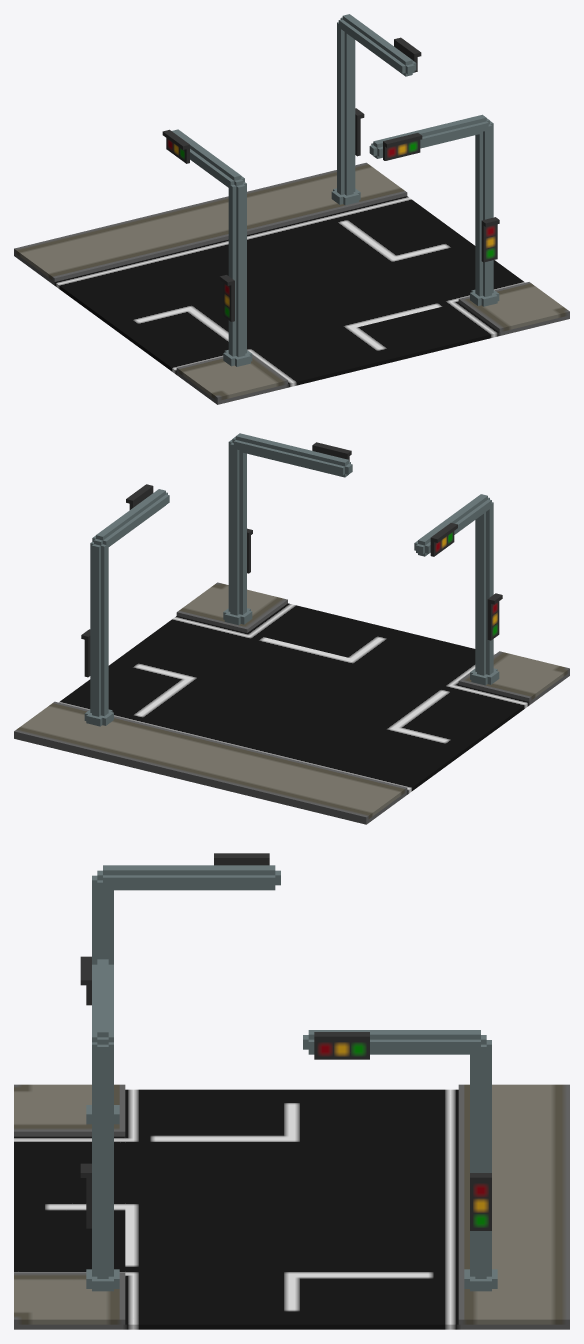
File: Carretera5.fbx
The picture shows the model from 3 angles, top to bottom: view 1: azimuth 30°, elevation 25°; view 2: azimuth 150°, elevation 25°; view 3: azimuth 270°, elevation 25°; orthographic projection. The views are drawn at different scales.
Visible parts, largest first — view 1: Carretera7; view 2: Carretera7; view 3: Carretera7.
Boxes of the visible parts, x1,y1,x2,y2 form: Carretera7: (14,14,569,404); Carretera7: (14,433,569,824); Carretera7: (14,853,569,1329).
Size of the model in its own units: 100 by 53 by 100.
